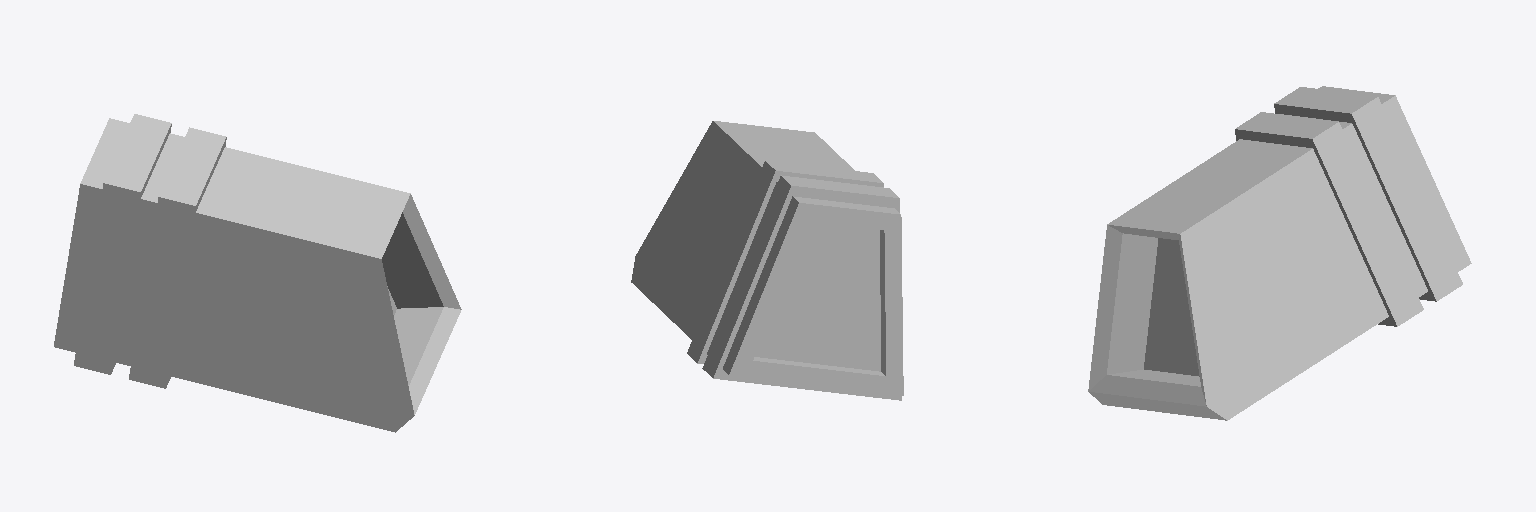
Rendered from debris-1.obj.
The picture shows the model from 3 angles: view 1: azimuth 30°, elevation 25°; view 2: azimuth 150°, elevation 25°; view 3: azimuth 270°, elevation 25°; orthographic projection.
Visible parts, largest first — view 1: Ship_2.001_Cube.000; view 2: Ship_2.001_Cube.000; view 3: Ship_2.001_Cube.000.
Boxes of the visible parts, x1=… form: Ship_2.001_Cube.000: x1=54, y1=114, x2=461, y2=432; Ship_2.001_Cube.000: x1=631, y1=121, x2=903, y2=400; Ship_2.001_Cube.000: x1=1088, y1=86, x2=1471, y2=420.
Size of the model in its own units: 1.79 by 1.26 by 1.76.